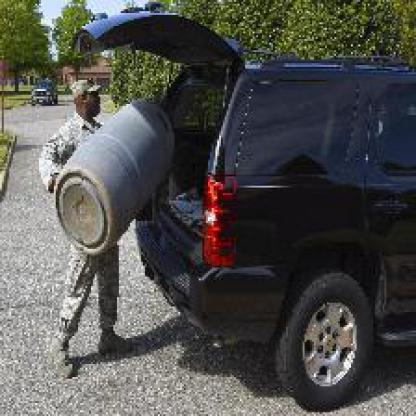not_emergency: (73, 18, 414, 392)
